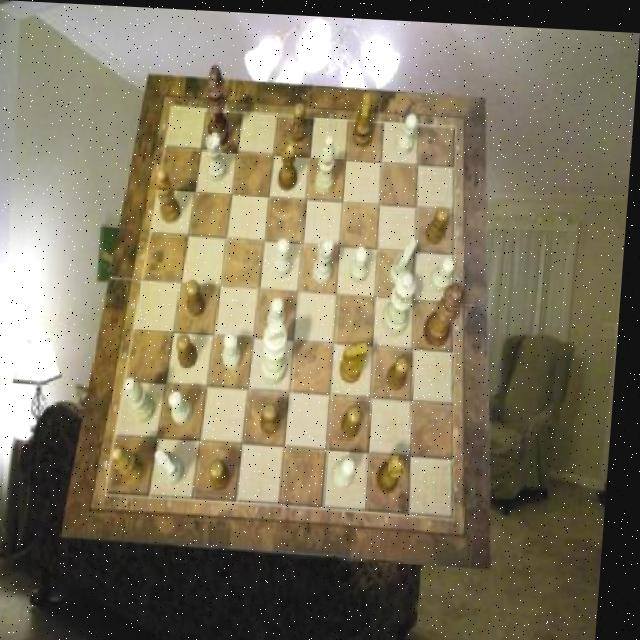bishop: (156, 168, 187, 223), (118, 445, 154, 484)
black-bishop: (205, 62, 235, 146)
black-king: (345, 339, 374, 381), (354, 90, 375, 145)
black-knight: (181, 331, 206, 367), (429, 201, 452, 240), (391, 352, 415, 387), (190, 278, 212, 315), (291, 100, 310, 140), (347, 401, 368, 436), (217, 457, 238, 489), (267, 400, 287, 433)
black-pawn: (429, 276, 470, 344)
black-queen: (383, 451, 412, 492), (281, 138, 303, 188)
black-rook: (129, 376, 163, 422), (317, 132, 338, 191)
white-bishop: (267, 316, 296, 381)
white-king: (394, 232, 421, 282), (161, 446, 194, 483)
white-knight: (173, 388, 199, 423), (399, 109, 420, 151), (435, 251, 460, 286), (339, 453, 363, 487), (227, 330, 248, 367), (277, 235, 297, 273), (354, 243, 373, 280), (272, 293, 292, 328)
white-pawn: (386, 266, 423, 333)
white-queen: (207, 132, 233, 181), (316, 233, 338, 280)
